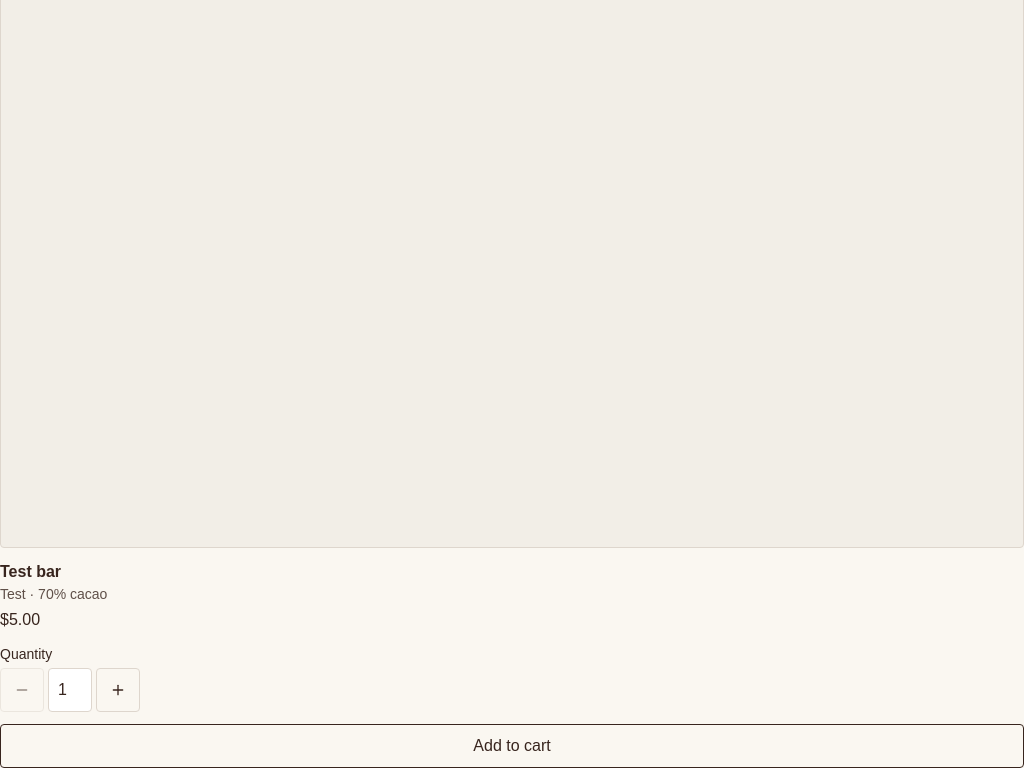
Test: retail catalog quantity selection › supports minus/plus buttons without exceeding the available quantity
(page scrolled)
Expected: the button named "Decrease quantity of Test bar" is disabled, [0,668,44,712]
Click the button named "Increase quantity of Test bar" at point(118, 690), box [96,668,140,712]
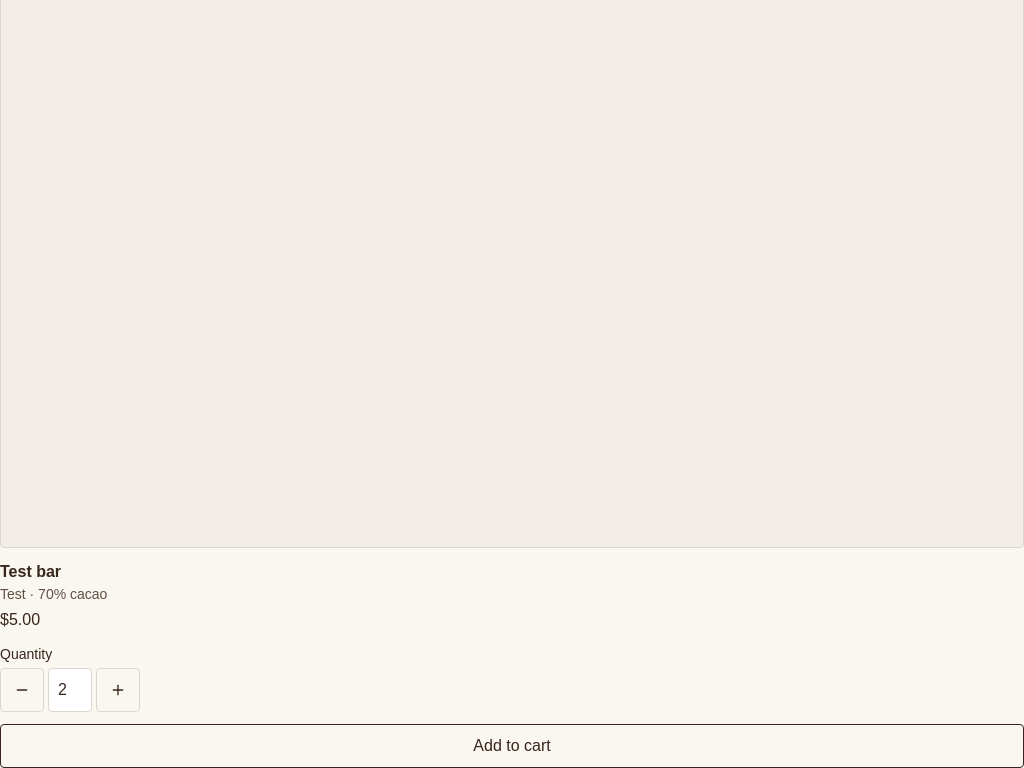
Result: the number field named "Quantity of Test bar" holds "2" at [48,668,92,712]
Click the button named "Increase quantity of Test bar" at point(118, 690), box [96,668,140,712]
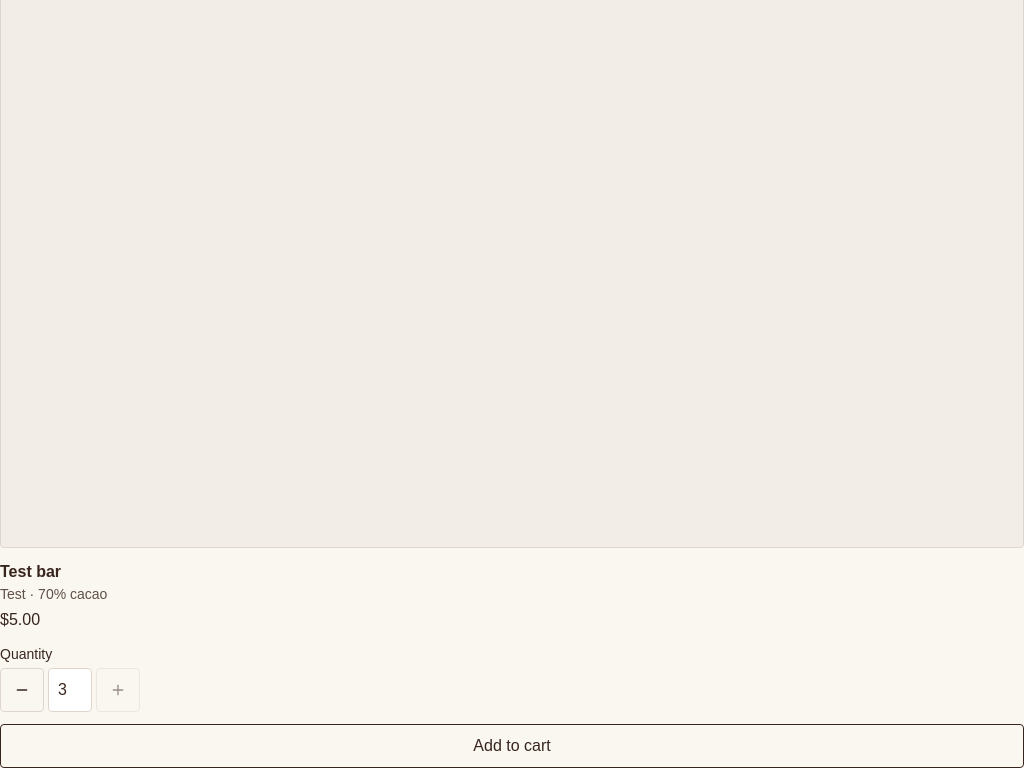
Result: the number field named "Quantity of Test bar" holds "3" at [48,668,92,712]
Result: the button named "Increase quantity of Test bar" is disabled at [96,668,140,712]
Click the button named "Decrease quantity of Test bar" at point(22, 690), box [0,668,44,712]
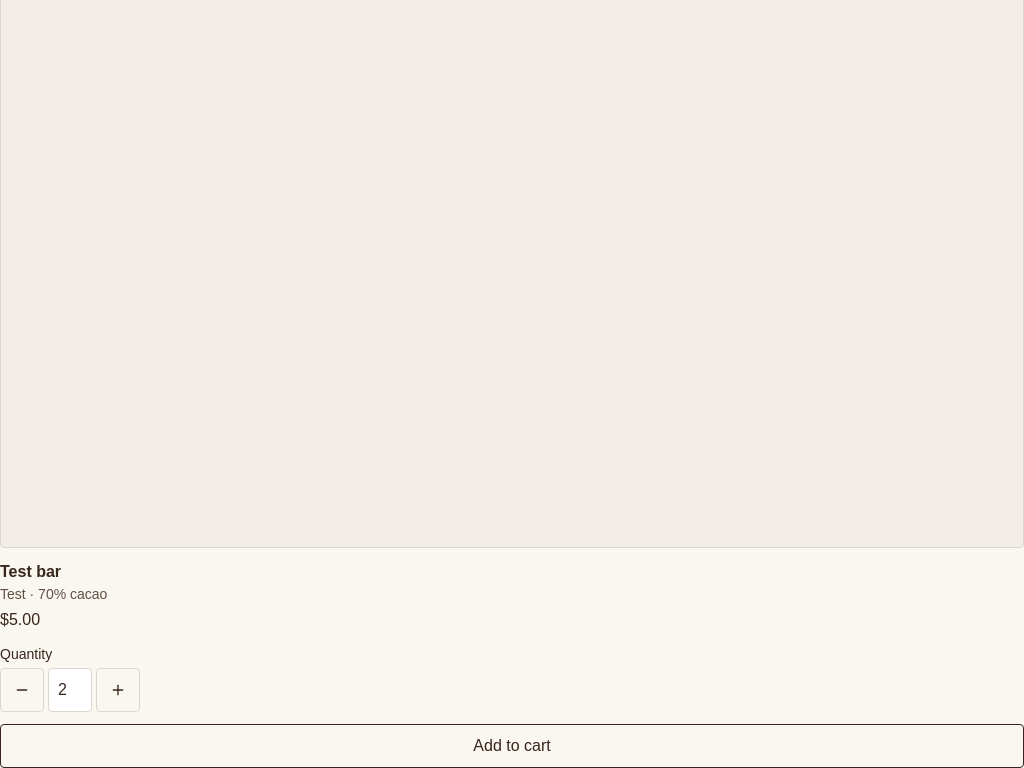
Result: the number field named "Quantity of Test bar" holds "2" at [48,668,92,712]
